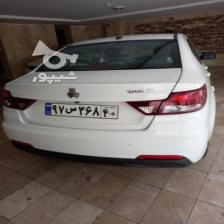plate: (45, 101, 117, 120)
